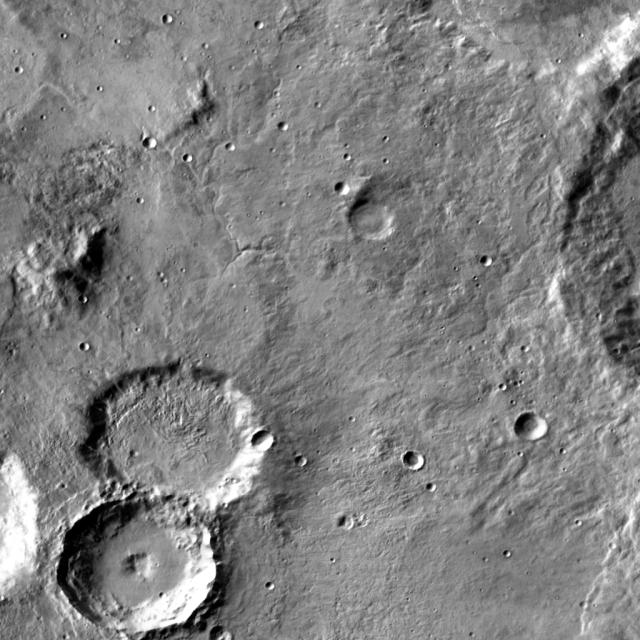crater: (92, 365, 274, 524), (66, 499, 224, 636), (355, 200, 400, 240), (522, 417, 554, 445), (259, 433, 283, 454), (411, 453, 432, 472), (345, 518, 362, 533), (341, 184, 358, 198), (151, 140, 164, 152), (488, 258, 501, 268), (302, 458, 314, 468), (169, 17, 180, 27), (87, 345, 97, 354), (286, 125, 296, 133), (191, 158, 200, 166), (262, 24, 272, 31), (87, 298, 95, 306), (234, 145, 242, 153), (22, 68, 30, 76), (528, 348, 536, 356), (342, 148, 350, 156), (586, 603, 594, 611), (616, 545, 624, 552), (137, 452, 144, 459), (436, 488, 444, 494), (266, 579, 274, 585), (509, 554, 517, 560), (137, 192, 144, 198)
